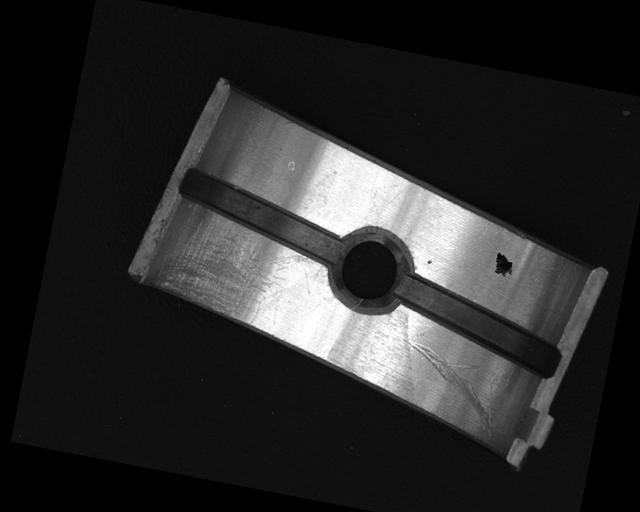blot: (492, 251, 516, 278)
bruise: (285, 159, 297, 174), (427, 258, 432, 265)
gap: (382, 270, 571, 378), (168, 165, 352, 266)
hole: (324, 222, 416, 320)
nick: (388, 335, 511, 440)
scratch: (146, 217, 317, 331)
